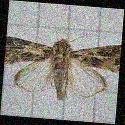Spodoptera litura: (4, 29, 120, 105)
